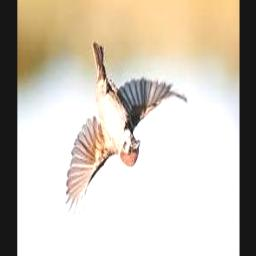Sparrow: (64, 43, 187, 220)
